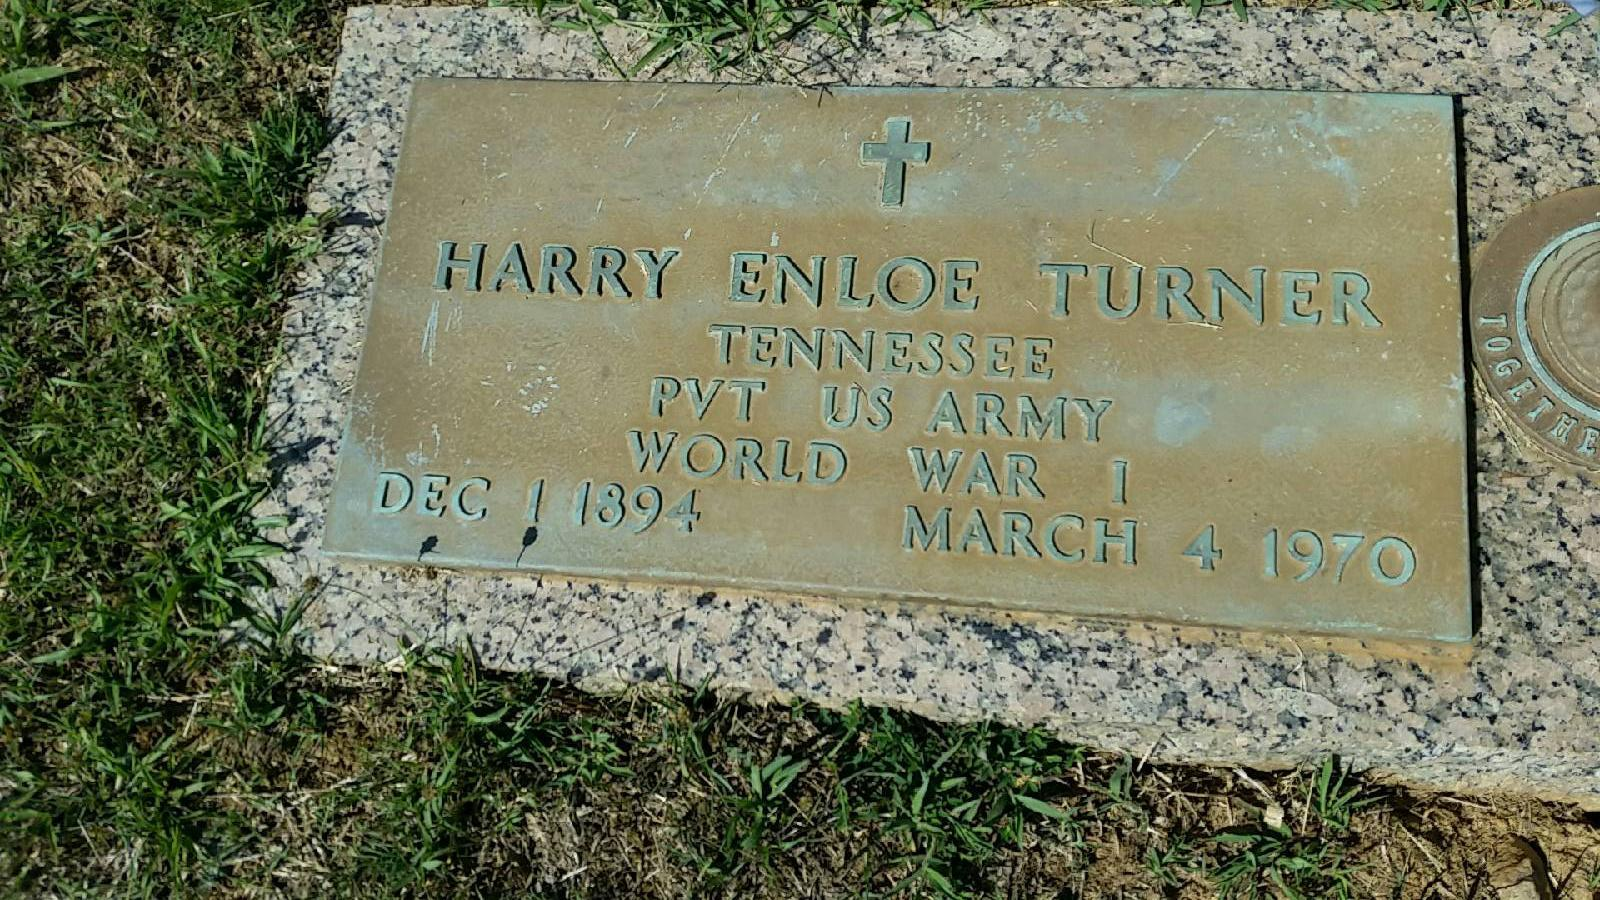military: (318, 69, 1478, 656)
